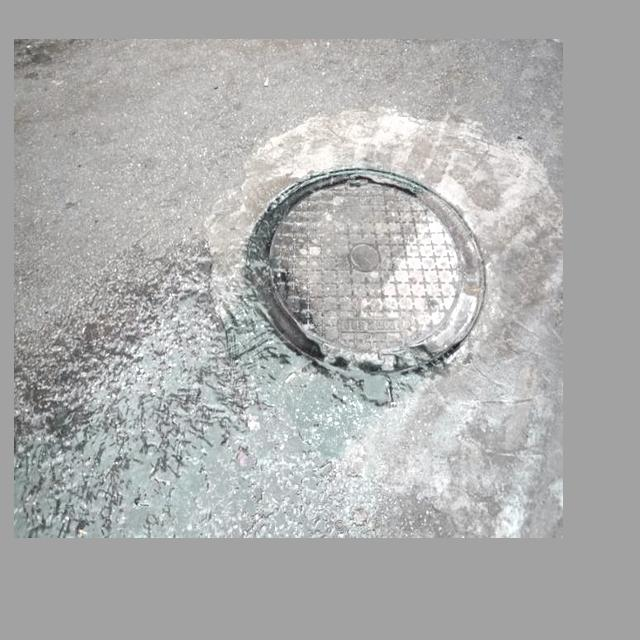circle: (209, 133, 505, 427)
